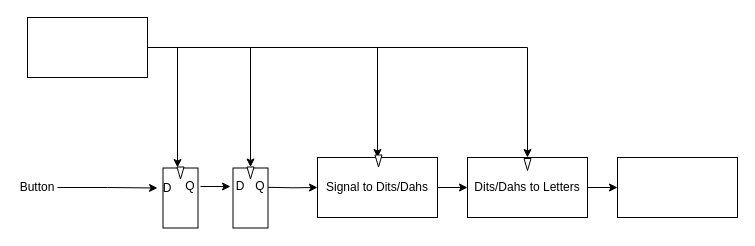
The diagram is 755 pixels wide and 246 high, and some of its shapes have lost their labels. Each missing label, with the centre of its shape:
"Clock" belongs at point 87,47.
"LEDs" belongs at point 677,187.
